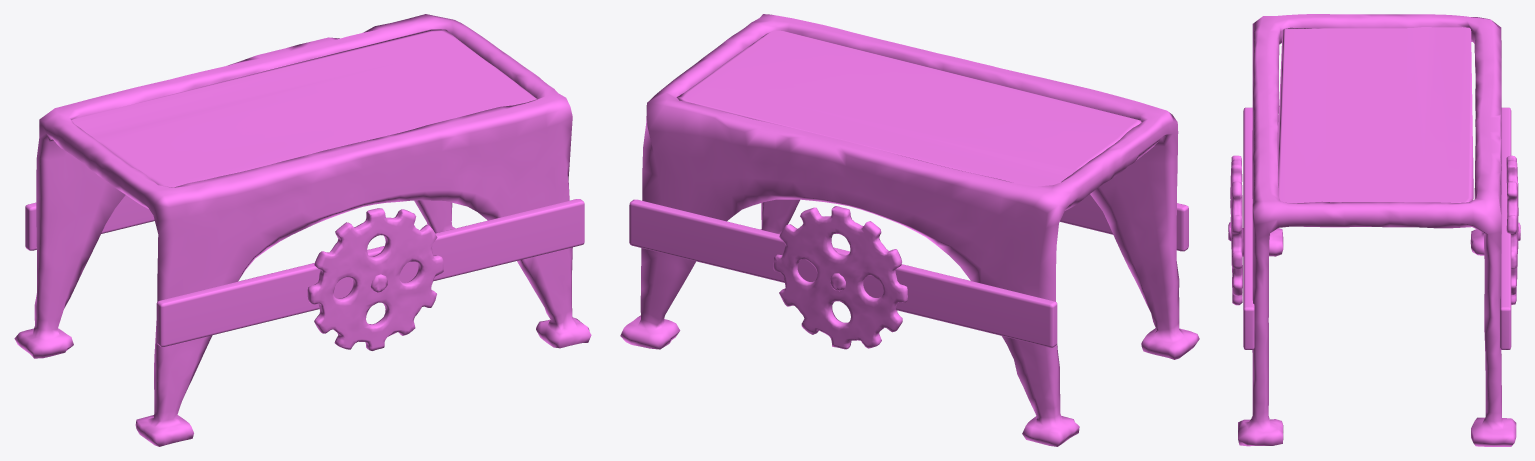
File: Table_Low_Retop.fbx
3 renders of one model, left to right at view 1: azimuth 30°, elevation 25°; view 2: azimuth 150°, elevation 25°; view 3: azimuth 270°, elevation 25°, orthographic. The views are drawn at different scales.
Visible parts, largest first — view 1: Table_LOW, Glass_LOW, Plank_LOW, Gear_LOW; view 2: Table_LOW, Glass_LOW, Plank_LOW, Gear_LOW; view 3: Glass_LOW, Table_LOW, Plank_LOW, Gear_LOW.
Part boxes in pixels (left/top/right/bottom): Table_LOW: left=14, top=14, right=591, bottom=446; Glass_LOW: left=71, top=29, right=536, bottom=187; Plank_LOW: left=25, top=195, right=584, bottom=346; Gear_LOW: left=307, top=208, right=443, bottom=350; Table_LOW: left=620, top=14, right=1199, bottom=446; Glass_LOW: left=676, top=30, right=1141, bottom=186; Plank_LOW: left=629, top=194, right=1188, bottom=347; Gear_LOW: left=773, top=206, right=907, bottom=349; Glass_LOW: left=1278, top=27, right=1473, bottom=203; Table_LOW: left=1238, top=14, right=1516, bottom=446; Plank_LOW: left=1243, top=107, right=1511, bottom=349; Gear_LOW: left=1228, top=155, right=1520, bottom=305.
Size of the model in its own units: 66.15 by 34.41 by 39.04.
